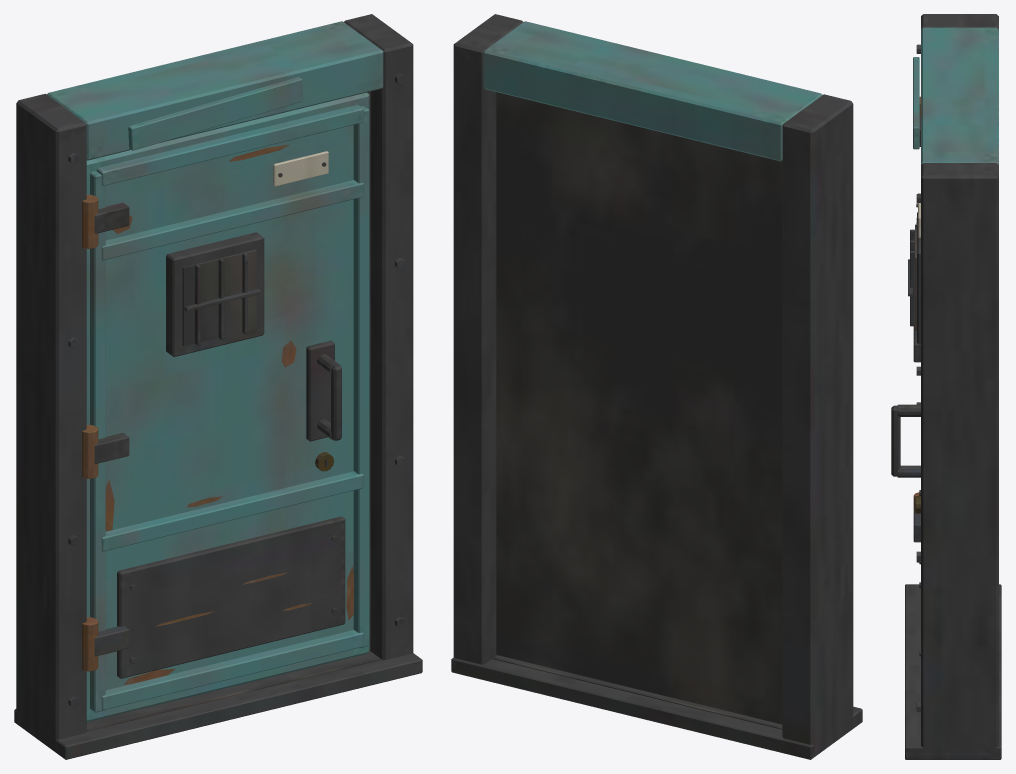
The model's file is Y29_elevator_shaft_door.glb.
3 views of the same model, side by side, from view 1: azimuth 30°, elevation 25°; view 2: azimuth 150°, elevation 25°; view 3: azimuth 270°, elevation 25° (orthographic). The views are drawn at different scales.
Visible parts, largest first — view 1: Left shaft jamb; view 2: Left shaft jamb; view 3: Left shaft jamb.
Boxes of the visible parts, x1,y1,x2,y2 form: Left shaft jamb: [14, 14, 422, 759]; Left shaft jamb: [451, 14, 862, 759]; Left shaft jamb: [891, 14, 1001, 759].
Size of the model in its own units: 1.44 by 2.4 by 0.41.
6 materials, 6 textured.
